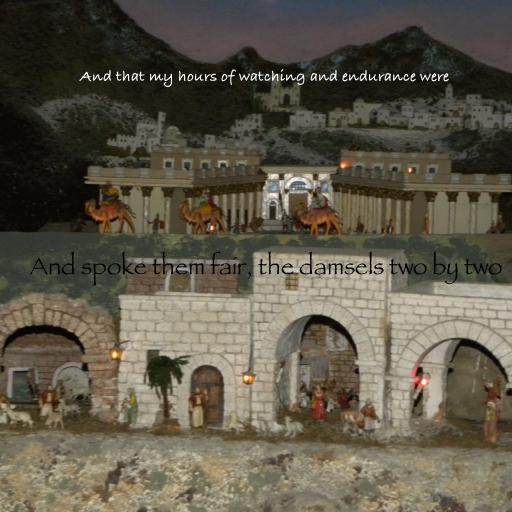Bradley Hand: (79, 69, 449, 87)
Papyrus: (30, 251, 502, 286)
